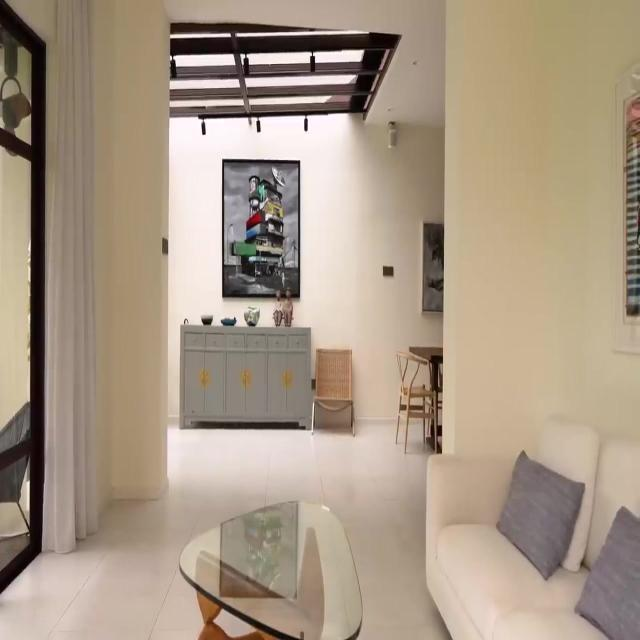door: (0, 0, 46, 593)
obstacle: (424, 415, 640, 639), (178, 498, 362, 640), (408, 345, 444, 453), (311, 348, 355, 436)
